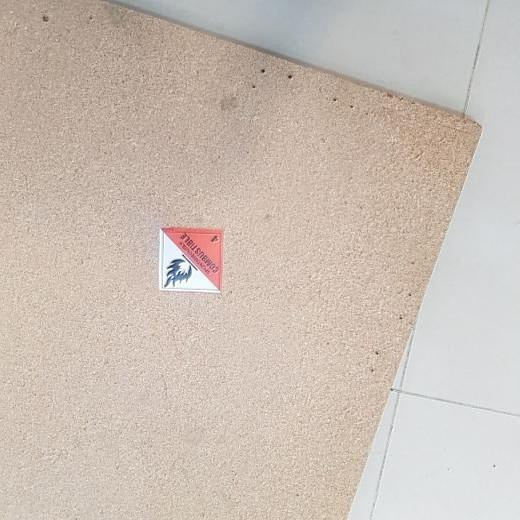spontaneously-combustible: (161, 227, 225, 293)
